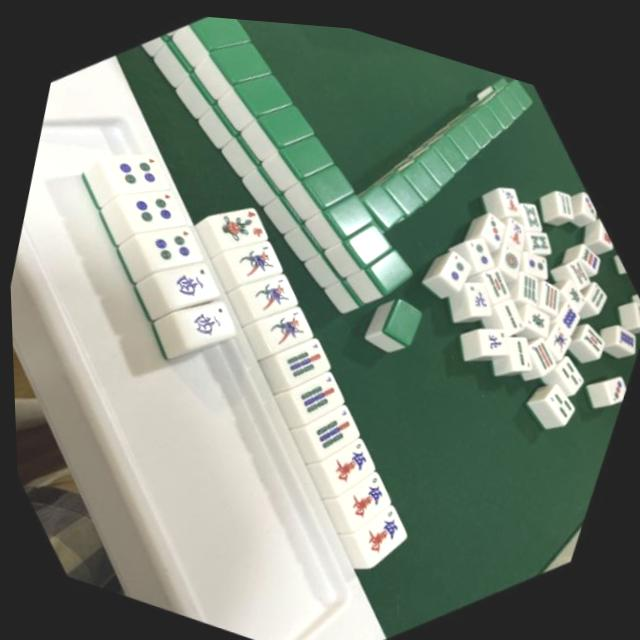bs4: (208, 190, 281, 262)
hww: (184, 292, 248, 355), (168, 254, 229, 315)
sb1: (228, 226, 293, 291), (245, 262, 310, 326), (260, 296, 323, 359)
sb7: (306, 392, 378, 463), (274, 325, 344, 394), (291, 360, 359, 427)
sc5: (352, 494, 427, 569), (338, 460, 411, 532), (321, 426, 393, 497)
sd4: (146, 214, 214, 282), (110, 139, 176, 205), (129, 177, 194, 241)
